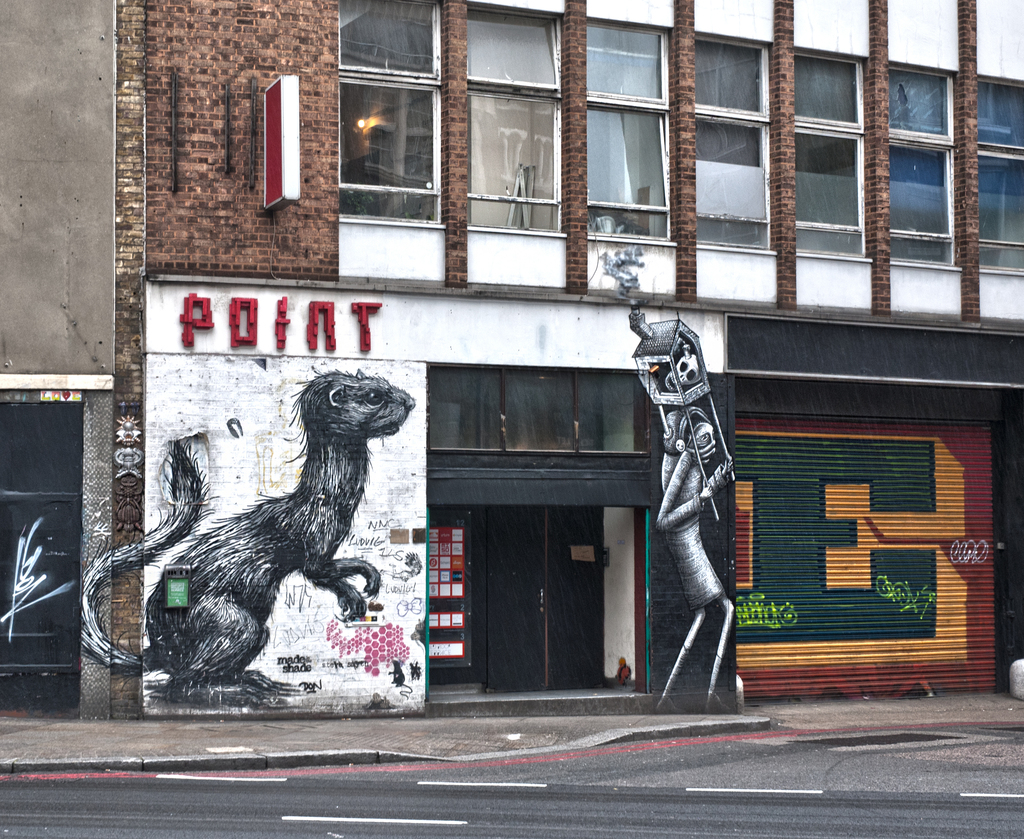Animal: (77, 369, 416, 704)
